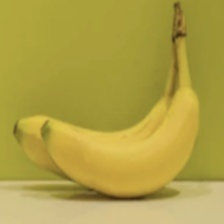banana: (19, 0, 178, 199)
